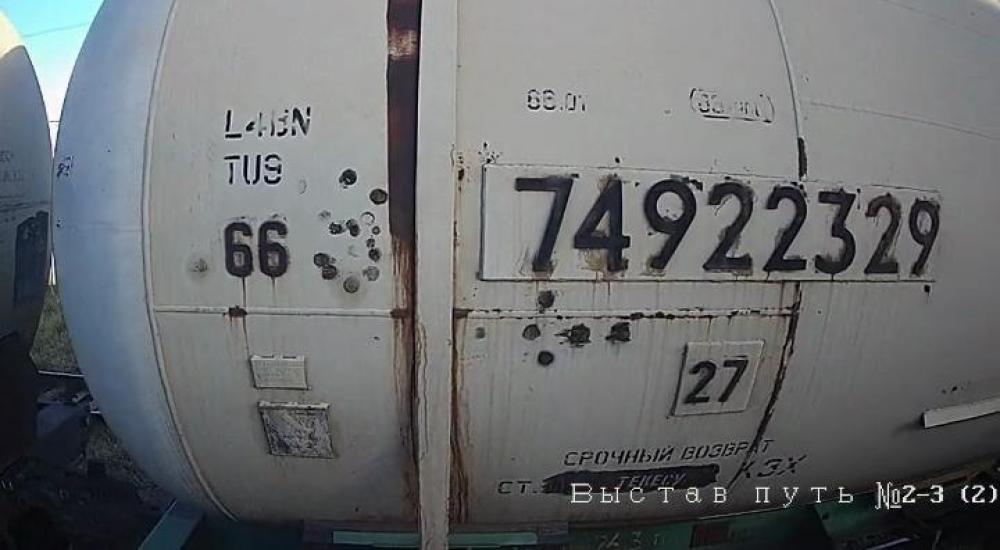Wagon-number: (511, 164, 942, 282)
